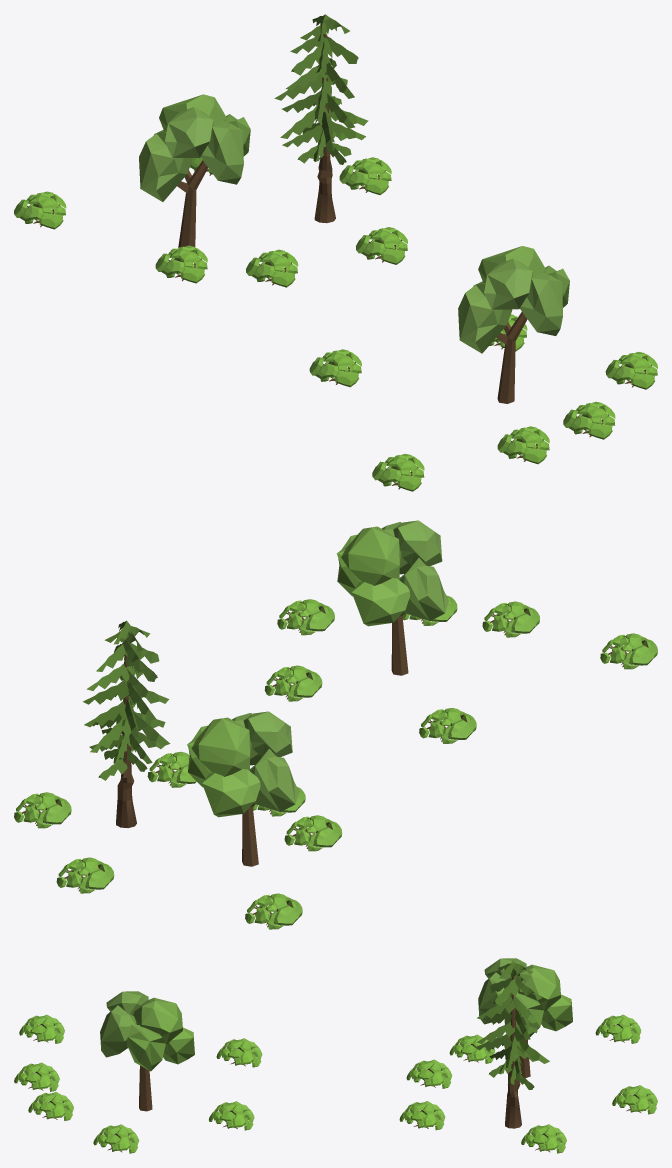
The model's file is TreeGroup 3.fbx.
The picture shows the model from 3 angles, top to bottom: view 1: azimuth 30°, elevation 25°; view 2: azimuth 150°, elevation 25°; view 3: azimuth 270°, elevation 25°; orthographic projection. The views are drawn at different scales.
Parts seen in each view (by area): view 1: TreeGroup__3__mesh_mesh; view 2: TreeGroup__3__mesh_mesh; view 3: TreeGroup__3__mesh_mesh.
Boxes of the visible parts, x1,y1,x2,y2 form: TreeGroup__3__mesh_mesh: (14, 14, 657, 491); TreeGroup__3__mesh_mesh: (14, 520, 657, 929); TreeGroup__3__mesh_mesh: (14, 958, 657, 1153).
Size of the model in its own units: 2055 by 1244 by 4350.
